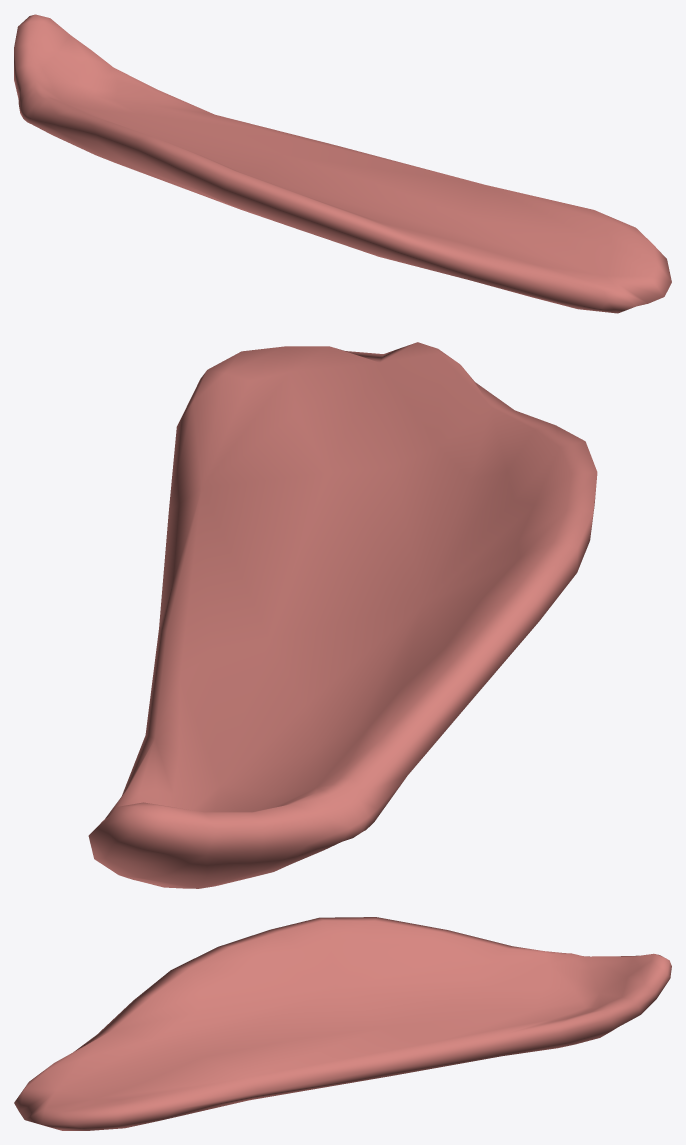
The picture shows the model from 3 angles, top to bottom: view 1: azimuth 30°, elevation 25°; view 2: azimuth 150°, elevation 25°; view 3: azimuth 270°, elevation 25°; orthographic projection. The views are drawn at different scales.
Visible parts, largest first — view 1: ZA_d6524bd85eda47d8; view 2: ZA_d6524bd85eda47d8; view 3: ZA_d6524bd85eda47d8.
Boxes of the visible parts, x1,y1,x2,y2 form: ZA_d6524bd85eda47d8: (14,14,671,313); ZA_d6524bd85eda47d8: (88,342,597,888); ZA_d6524bd85eda47d8: (14,917,671,1130).
Bounding box in the file's own units: 0.00585 × 0.00163 × 0.011.
